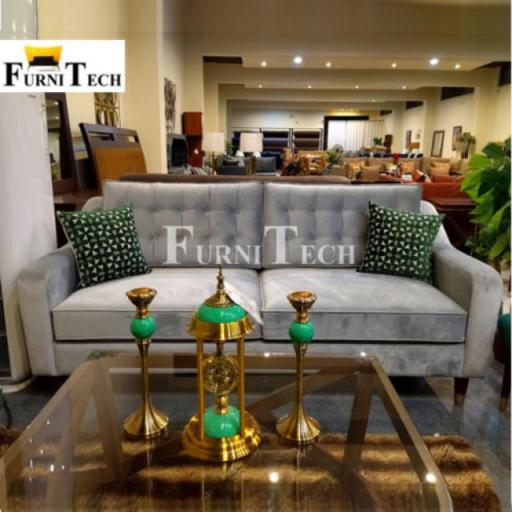sofa: (9, 166, 512, 417)
